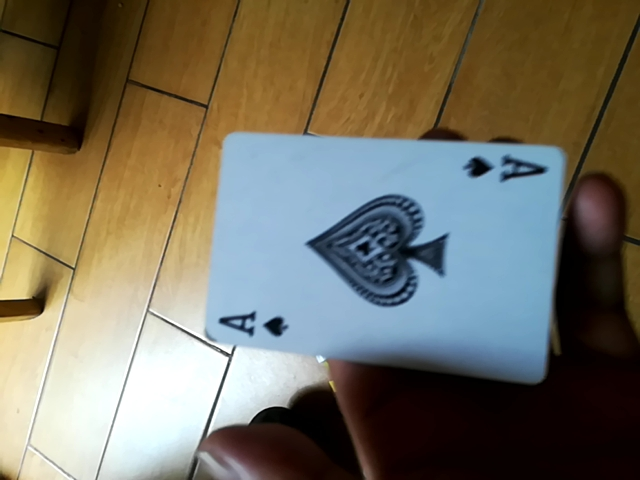ht a: (202, 131, 573, 388)
